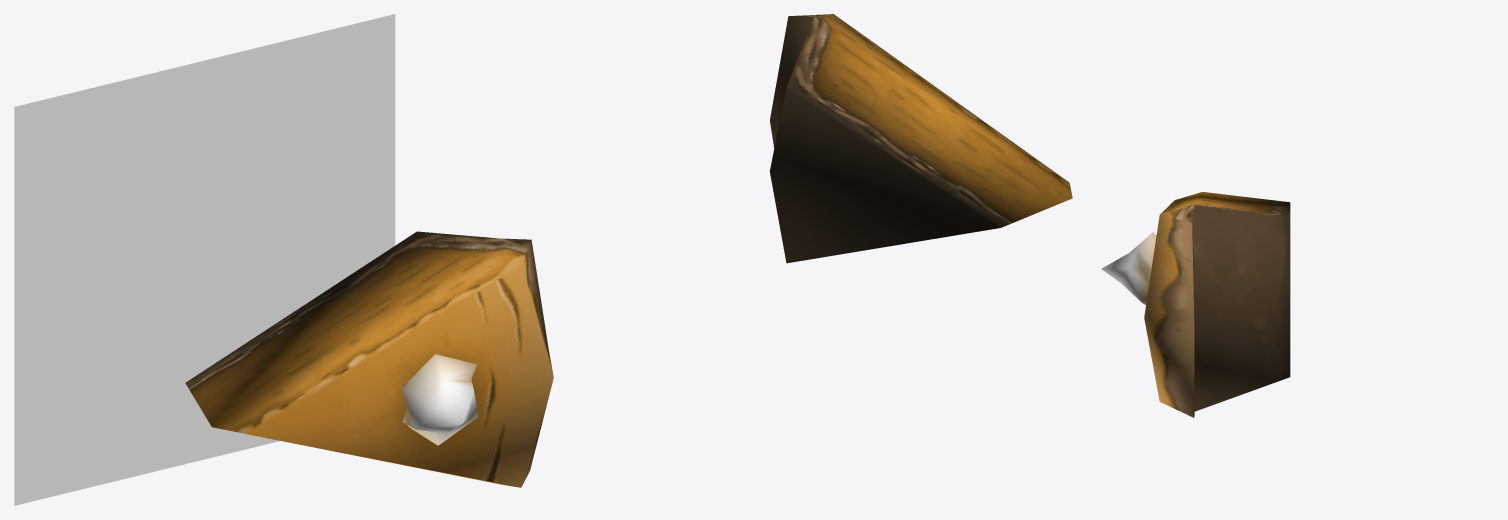
The model's file is compound_punkin_piece.glb.
The picture shows the model from 3 angles, left to right: view 1: azimuth 30°, elevation 25°; view 2: azimuth 150°, elevation 25°; view 3: azimuth 270°, elevation 25°; orthographic projection. The views are drawn at different scales.
Visible parts, largest first — view 1: parts.compound_punkin_piece-MeshNodes["mesh_shadow"], parts.model_punkin_piece-MeshNodes["mesh_punkin"]; view 2: parts.model_punkin_piece-MeshNodes["mesh_punkin"]; view 3: parts.model_punkin_piece-MeshNodes["mesh_punkin"].
Boxes of the visible parts, x1=… form: parts.compound_punkin_piece-MeshNodes["mesh_shadow"]: x1=14, y1=14, x2=395, y2=505; parts.model_punkin_piece-MeshNodes["mesh_punkin"]: x1=185, y1=231, x2=553, y2=487; parts.model_punkin_piece-MeshNodes["mesh_punkin"]: x1=769, y1=14, x2=1072, y2=263; parts.model_punkin_piece-MeshNodes["mesh_punkin"]: x1=1101, y1=192, x2=1290, y2=417.
Size of the model in its own units: 0.75 by 0.75 by 0.7958.
2 materials, 2 textured.
